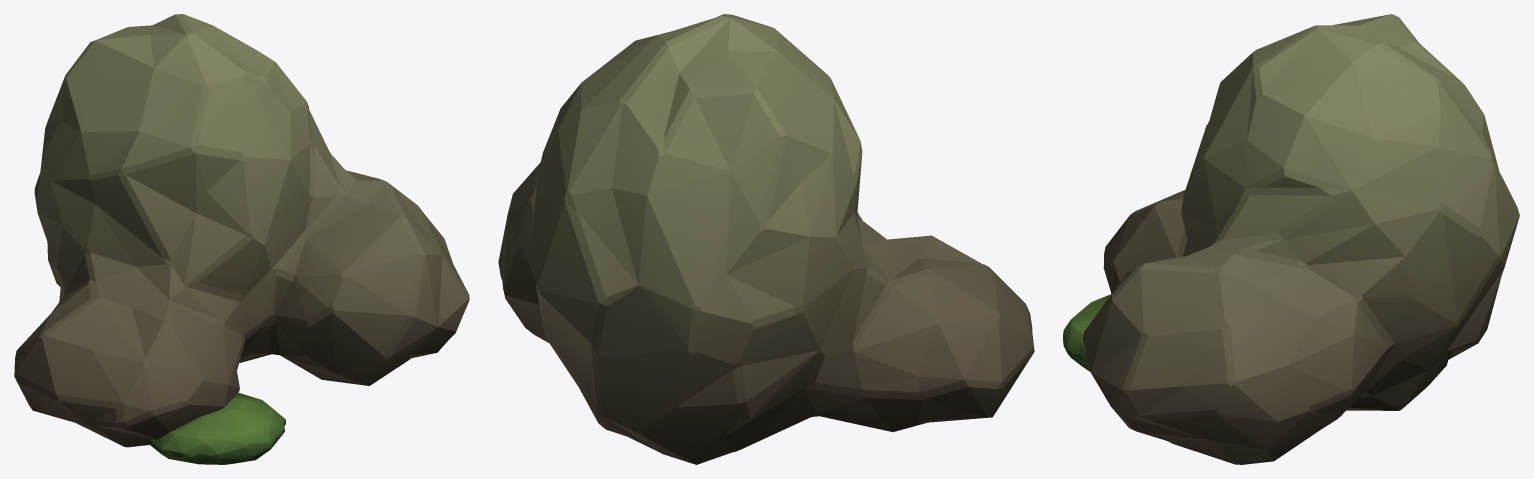
File: skala_1_1.glb
The picture shows the model from 3 angles, left to right: view 1: azimuth 30°, elevation 25°; view 2: azimuth 150°, elevation 25°; view 3: azimuth 270°, elevation 25°; orthographic projection. The views are drawn at different scales.
Visible parts, largest first — view 1: skala_1_1; view 2: skala_1_1; view 3: skala_1_1.
Part boxes in pixels (x1,y1,x2,y2): skala_1_1: [14, 14, 469, 464]; skala_1_1: [498, 14, 1034, 464]; skala_1_1: [1063, 14, 1519, 464].
Size of the model in its own units: 1.42 by 1.14 by 1.25.
